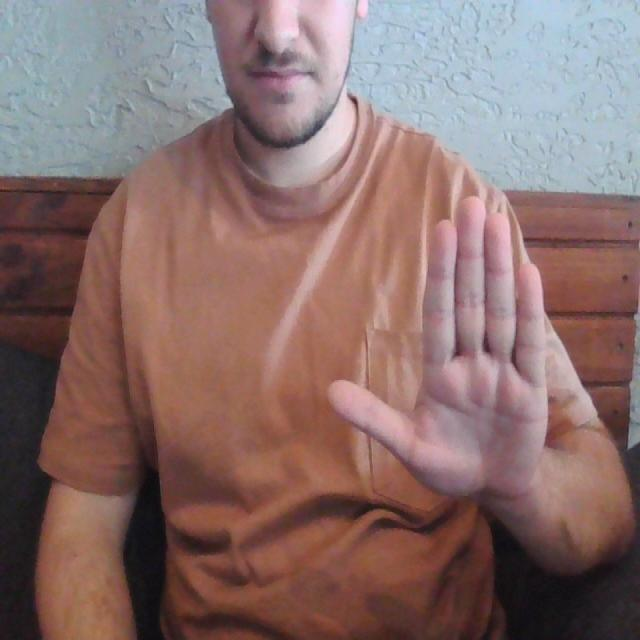Dur: (315, 175, 559, 533)
